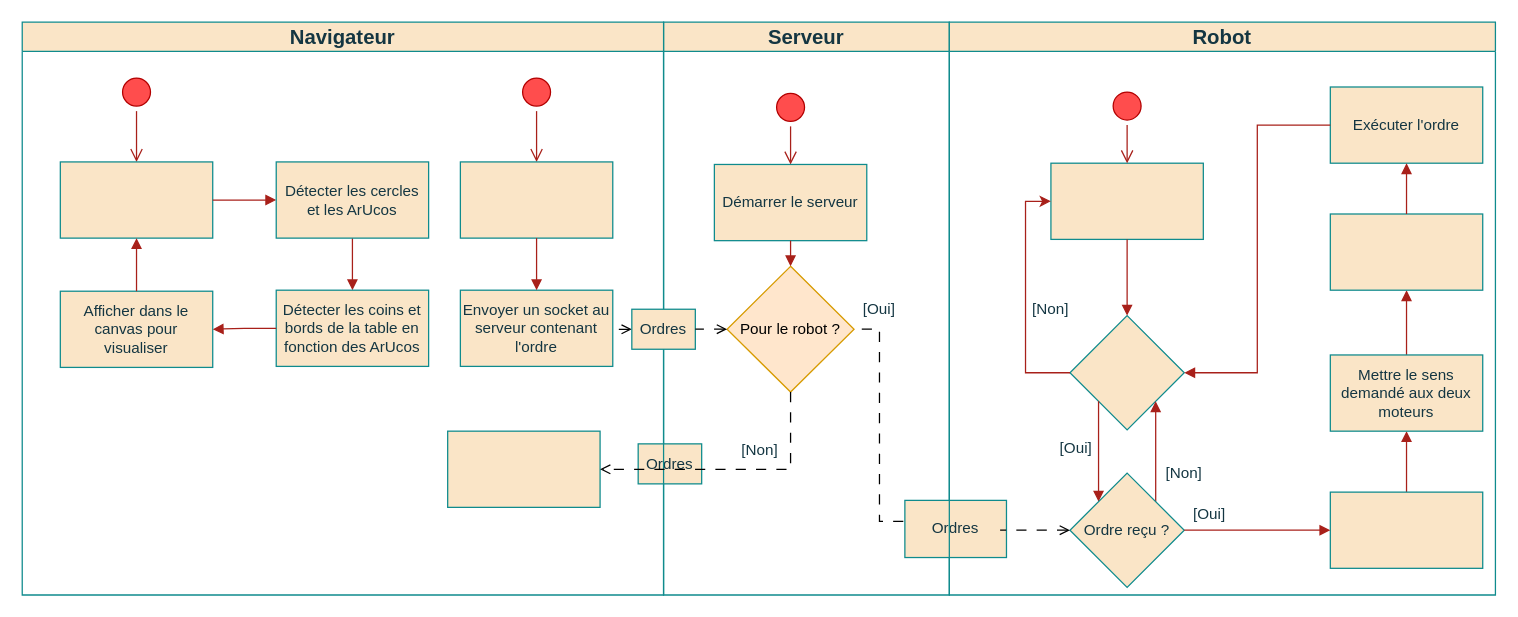
Image size: 1518x617. Some labels were removed from this diagram. Each missing label, with the box of its shape:
Appuyer sur un bouton pour déplacer le robot: (459, 161, 613, 238)
Connexion au réseau: (1050, 162, 1203, 239)
Exécuter l'ordre dans le simulateur de la même façon que le robot: (446, 430, 600, 507)
Exécuter la requête pendant la durée indiquée: (1329, 213, 1483, 290)
Mettre la puissance demandée aux deux moteurs: (1329, 491, 1483, 568)
Récupérer les images de la caméra: (59, 161, 213, 238)
Toujours connecté ?: (1069, 314, 1184, 430)
